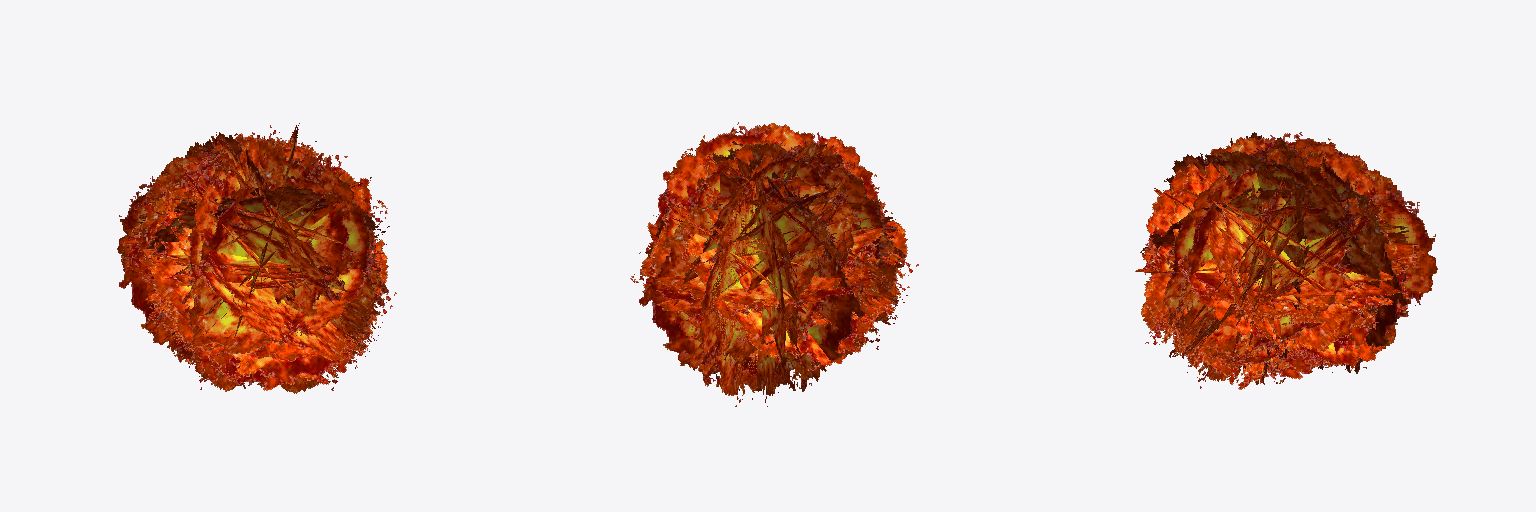
3 renders of one model, left to right at view 1: azimuth 30°, elevation 25°; view 2: azimuth 150°, elevation 25°; view 3: azimuth 270°, elevation 25°, orthographic.
Parts seen in each view (by area): view 1: Mesh13 Component_1_13 Group6 Group2 Group1 Model, Mesh15 Component_1_15 Group6 Group2 Group1 Model, Mesh10 Component_1_10 Group5 Group2 Group1 Model, Mesh16 Component_1_16 Group6 Group2 Group1 Model, Mesh8 Component_1_8 Group4 Group2 Group1 Model, Mesh7 Component_1_7 Group4 Group2 Group1 Model, Mesh22 Component_1_22 Group8 Group2 Group1 Model, Mesh18 Component_1_18 Group7 Group2 Group1 Model, Mesh19 Component_1_19 Group7 Group2 Group1 Model, Mesh25 Component_1_25 Group10 Group9 Group1 Model, Mesh42 Component_1_42 Group14 Group9 Group1 Model, Mesh17 Component_1_17 Group7 Group2 Group1 Model (+18 smaller); view 2: Mesh25 Component_1_25 Group10 Group9 Group1 Model, Mesh28 Component_1_28 Group10 Group9 Group1 Model, Mesh2 Component_1_2 Group3 Group2 Group1 Model, Mesh32 Component_1_32 Group11 Group9 Group1 Model, Mesh26 Component_1_26 Group10 Group9 Group1 Model, Mesh7 Component_1_7 Group4 Group2 Group1 Model, Mesh30 Component_1_30 Group11 Group9 Group1 Model, Mesh33 Component_1_33 Group12 Group9 Group1 Model, Mesh27 Component_1_27 Group10 Group9 Group1 Model, Mesh29 Component_1_29 Group11 Group9 Group1 Model, Mesh3 Component_1_3 Group3 Group2 Group1 Model, Mesh35 Component_1_35 Group12 Group9 Group1 Model (+15 smaller); view 3: Mesh26 Component_1_26 Group10 Group9 Group1 Model, Mesh10 Component_1_10 Group5 Group2 Group1 Model, Mesh1 Component_1_1 Group3 Group2 Group1 Model, Mesh6 Component_1_6 Group4 Group2 Group1 Model, Mesh28 Component_1_28 Group10 Group9 Group1 Model, Mesh23 Component_1_23 Group8 Group2 Group1 Model, Mesh2 Component_1_2 Group3 Group2 Group1 Model, Mesh9 Component_1_9 Group5 Group2 Group1 Model, Mesh3 Component_1_3 Group3 Group2 Group1 Model, Mesh21 Component_1_21 Group8 Group2 Group1 Model, Mesh46 Component_1_46 Group15 Group9 Group1 Model, Mesh42 Component_1_42 Group14 Group9 Group1 Model (+23 smaller).
Boxes of the visible parts, <box> form: Mesh13 Component_1_13 Group6 Group2 Group1 Model: <box>149,189,368,384</box>; Mesh15 Component_1_15 Group6 Group2 Group1 Model: <box>148,255,371,361</box>; Mesh10 Component_1_10 Group5 Group2 Group1 Model: <box>199,133,375,337</box>; Mesh16 Component_1_16 Group6 Group2 Group1 Model: <box>181,170,282,391</box>; Mesh8 Component_1_8 Group4 Group2 Group1 Model: <box>252,132,353,349</box>; Mesh7 Component_1_7 Group4 Group2 Group1 Model: <box>186,125,305,334</box>; Mesh22 Component_1_22 Group8 Group2 Group1 Model: <box>175,209,369,354</box>; Mesh18 Component_1_18 Group7 Group2 Group1 Model: <box>171,226,365,367</box>; Mesh19 Component_1_19 Group7 Group2 Group1 Model: <box>182,210,376,353</box>; Mesh25 Component_1_25 Group10 Group9 Group1 Model: <box>119,146,224,362</box>; Mesh42 Component_1_42 Group14 Group9 Group1 Model: <box>146,191,389,259</box>; Mesh17 Component_1_17 Group7 Group2 Group1 Model: <box>152,176,384,393</box>; Mesh25 Component_1_25 Group10 Group9 Group1 Model: <box>650,171,864,391</box>; Mesh28 Component_1_28 Group10 Group9 Group1 Model: <box>639,175,878,392</box>; Mesh2 Component_1_2 Group3 Group2 Group1 Model: <box>652,124,844,271</box>; Mesh32 Component_1_32 Group11 Group9 Group1 Model: <box>679,185,858,366</box>; Mesh26 Component_1_26 Group10 Group9 Group1 Model: <box>699,184,762,406</box>; Mesh7 Component_1_7 Group4 Group2 Group1 Model: <box>664,136,889,272</box>; Mesh30 Component_1_30 Group11 Group9 Group1 Model: <box>709,145,796,377</box>; Mesh33 Component_1_33 Group12 Group9 Group1 Model: <box>667,164,834,368</box>; Mesh27 Component_1_27 Group10 Group9 Group1 Model: <box>752,169,785,406</box>; Mesh29 Component_1_29 Group11 Group9 Group1 Model: <box>648,242,886,309</box>; Mesh3 Component_1_3 Group3 Group2 Group1 Model: <box>671,142,827,320</box>; Mesh35 Component_1_35 Group12 Group9 Group1 Model: <box>733,153,800,381</box>; Mesh26 Component_1_26 Group10 Group9 Group1 Model: <box>1304,152,1437,372</box>; Mesh10 Component_1_10 Group5 Group2 Group1 Model: <box>1163,138,1311,328</box>; Mesh1 Component_1_1 Group3 Group2 Group1 Model: <box>1169,172,1375,351</box>; Mesh6 Component_1_6 Group4 Group2 Group1 Model: <box>1164,151,1362,274</box>; Mesh28 Component_1_28 Group10 Group9 Group1 Model: <box>1318,153,1406,373</box>; Mesh23 Component_1_23 Group8 Group2 Group1 Model: <box>1148,169,1301,382</box>; Mesh2 Component_1_2 Group3 Group2 Group1 Model: <box>1205,151,1389,313</box>; Mesh9 Component_1_9 Group5 Group2 Group1 Model: <box>1207,180,1364,359</box>; Mesh3 Component_1_3 Group3 Group2 Group1 Model: <box>1210,133,1399,360</box>; Mesh21 Component_1_21 Group8 Group2 Group1 Model: <box>1176,168,1237,381</box>; Mesh46 Component_1_46 Group15 Group9 Group1 Model: <box>1218,166,1330,366</box>; Mesh42 Component_1_42 Group14 Group9 Group1 Model: <box>1202,154,1316,366</box>.
Size of the model in its own units: 116 by 114 by 120.
Materials: 1 (1 with a texture image).